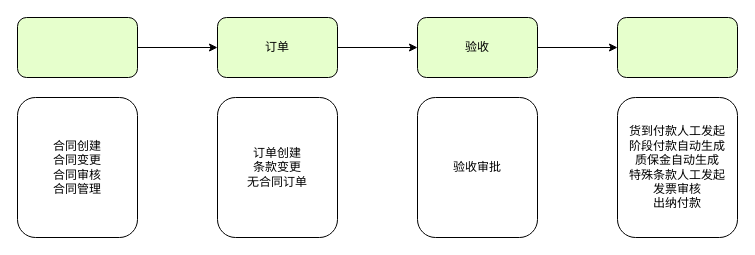
Some shapes in this 755 by 255 pixel diagram are drawn without their labels. The centre of each missing label's shape, as x and y in pixels:
"付款" belongs at point 677,47.
"合同" belongs at point 77,47.
